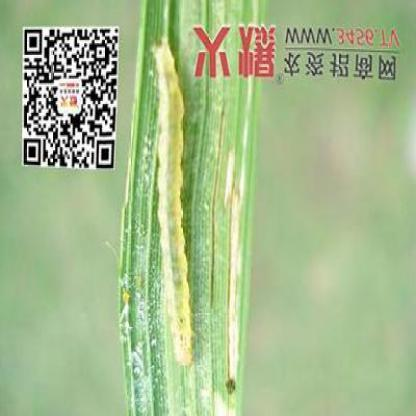leaf-folder: (154, 87, 222, 390)
